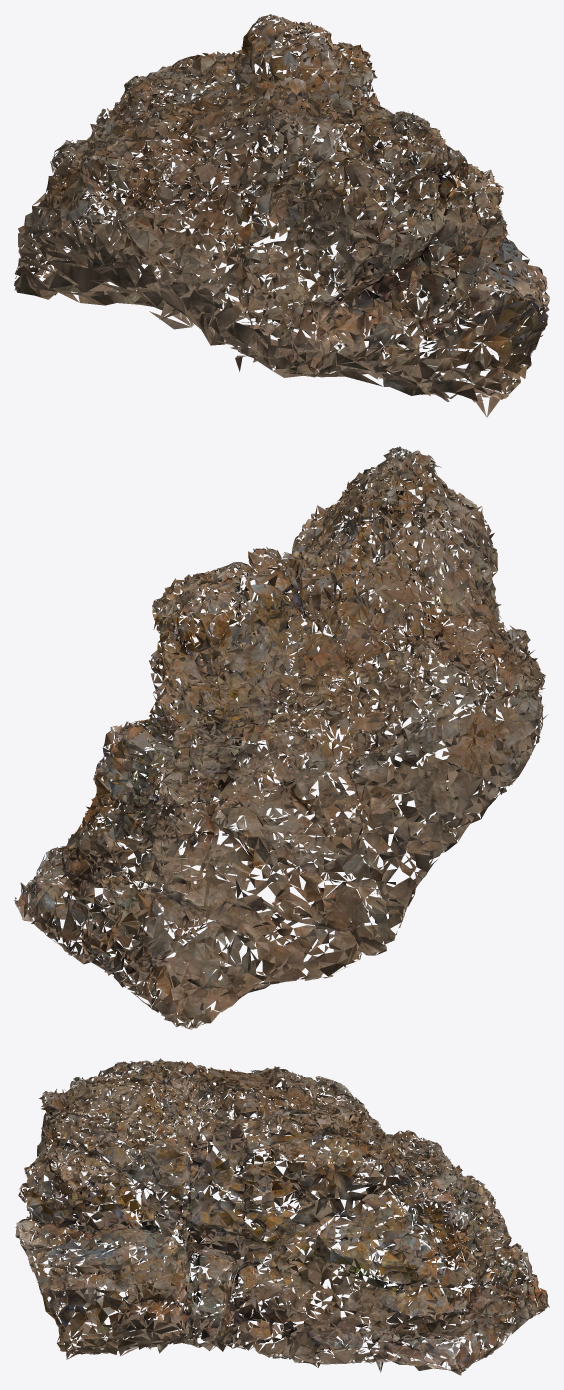
File: ph_boulder_01.glb
3 renders of one model, top to bottom at view 1: azimuth 30°, elevation 25°; view 2: azimuth 150°, elevation 25°; view 3: azimuth 270°, elevation 25°, orthographic. The views are drawn at different scales.
Parts seen in each view (by area): view 1: ph_boulder_01; view 2: ph_boulder_01; view 3: ph_boulder_01.
Part boxes in pixels (box(x1,y1,x2,y2)): ph_boulder_01: box(14, 14, 549, 417); ph_boulder_01: box(14, 446, 547, 1029); ph_boulder_01: box(15, 1058, 549, 1375).
Size of the model in its own units: 1.28 by 1.01 by 1.84.
Materials: 1 (1 with a texture image).
